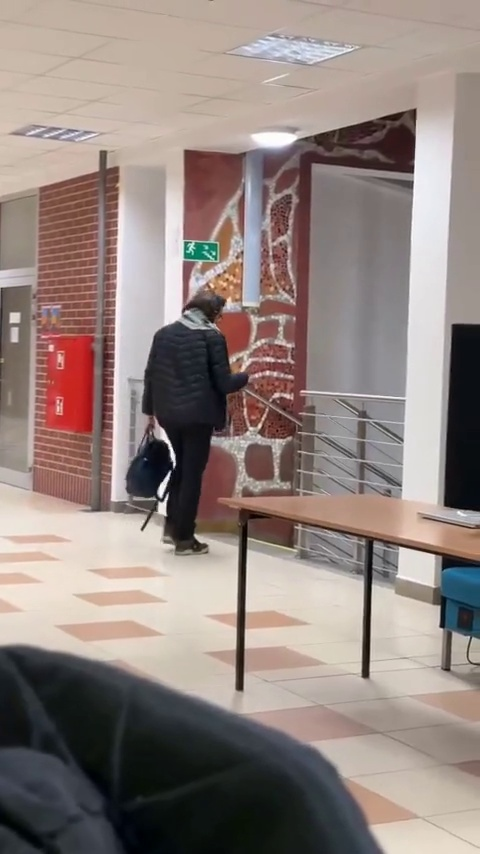no vest: (142, 292, 250, 553)
